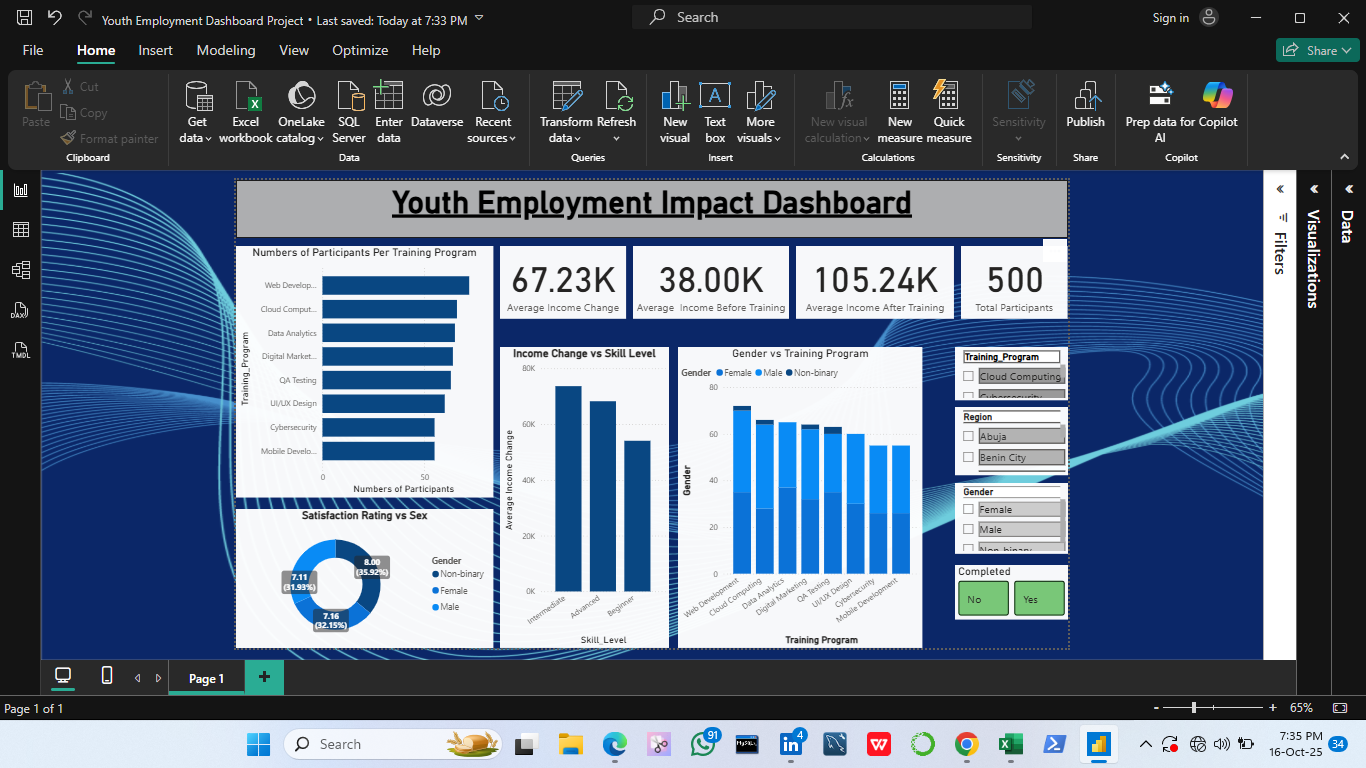

This screenshot's page, from the dashboard's own definition file:
{"tool":"powerbi","page":{"name":"Page 1","canvas":[1280,720],"ordinal":0},"visuals":[{"type":"textbox","box":[0,0,1280,89],"z":0},{"type":"card","fields":{"Values":["CountNonNull(youth_employment_500.Participant_ID)"]},"box":[1115.9,101.6,164.3,112],"z":1000},{"type":"card","fields":{"Values":["Avg(youth_employment_500.Income_After)"]},"box":[861.9,101.6,243.5,112],"z":2000},{"type":"card","fields":{"Values":["Avg(youth_employment_500.Income_Before)"]},"box":[611,101.6,240.5,112],"z":3000},{"type":"barChart","title":"Numbers of Participants Per Training Program","fields":{"Category":["youth_employment_500.Training_Program"],"Y":["CountNonNull(youth_employment_500.Participant_ID)"]},"box":[0,101.6,395.9,386.9],"z":4000},{"type":"card","fields":{"Values":["Avg(youth_employment_500.Income_Change)"]},"box":[406.3,101.6,194.2,112],"z":5000},{"type":"clusteredColumnChart","title":"Income Change vs Skill Level","fields":{"Category":["youth_employment_500.Skill_Level"],"Y":["Avg(youth_employment_500.Income_Change)"]},"box":[406.3,256.9,259.9,463.1],"z":6000},{"type":"donutChart","title":"Satisfaction Rating vs Sex","fields":{"Category":["youth_employment_500.Gender"],"Y":["Avg(youth_employment_500.Satisfaction_Rating)"]},"box":[0,506,396,214],"z":7000},{"type":"columnChart","title":"Gender vs Training Program","fields":{"Category":["youth_employment_500.Training_Program"],"Y":["CountNonNull(youth_employment_500.Gender)"],"Series":["youth_employment_500.Gender"]},"box":[679.7,256.9,376.4,463.1],"z":8000},{"type":"slicer","fields":{"Values":["youth_employment_500.Training_Program"]},"box":[1105.4,256.9,174.8,82.2],"z":8001},{"type":"slicer","fields":{"Values":["youth_employment_500.Region"]},"box":[1105.4,349.5,174.8,104.6],"z":8002},{"type":"slicer","fields":{"Values":["youth_employment_500.Gender"]},"box":[1105.4,466.1,174.8,109],"z":8003},{"type":"advancedSlicerVisual","fields":{"Values":["youth_employment_500.Completed"]},"box":[1105.4,593,174.8,83.7],"z":8004}]}

Visuals, with their boxes on the page's 1280x720 design canvas (x1, y1, x2, y2). These are canvas units, not pixel positions in the 1366x768 screenshot, which may show the page scaled, cropped or inside an application window:
textbox: box=[0, 0, 1280, 89]
card - CountNonNull(youth_employment_500.Participant_ID): box=[1116, 102, 1280, 214]
card - Avg(youth_employment_500.Income_After): box=[862, 102, 1105, 214]
card - Avg(youth_employment_500.Income_Before): box=[611, 102, 852, 214]
"Numbers of Participants Per Training Program" barChart: box=[0, 102, 396, 488]
card - Avg(youth_employment_500.Income_Change): box=[406, 102, 600, 214]
"Income Change vs Skill Level" clusteredColumnChart: box=[406, 257, 666, 720]
"Satisfaction Rating vs Sex" donutChart: box=[0, 506, 396, 720]
"Gender vs Training Program" columnChart: box=[680, 257, 1056, 720]
slicer - youth_employment_500.Training_Program: box=[1105, 257, 1280, 339]
slicer - youth_employment_500.Region: box=[1105, 350, 1280, 454]
slicer - youth_employment_500.Gender: box=[1105, 466, 1280, 575]
advancedSlicerVisual - youth_employment_500.Completed: box=[1105, 593, 1280, 677]
